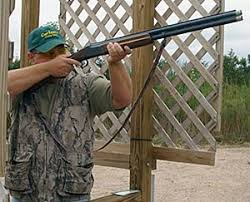Gun: (82, 18, 246, 48)
